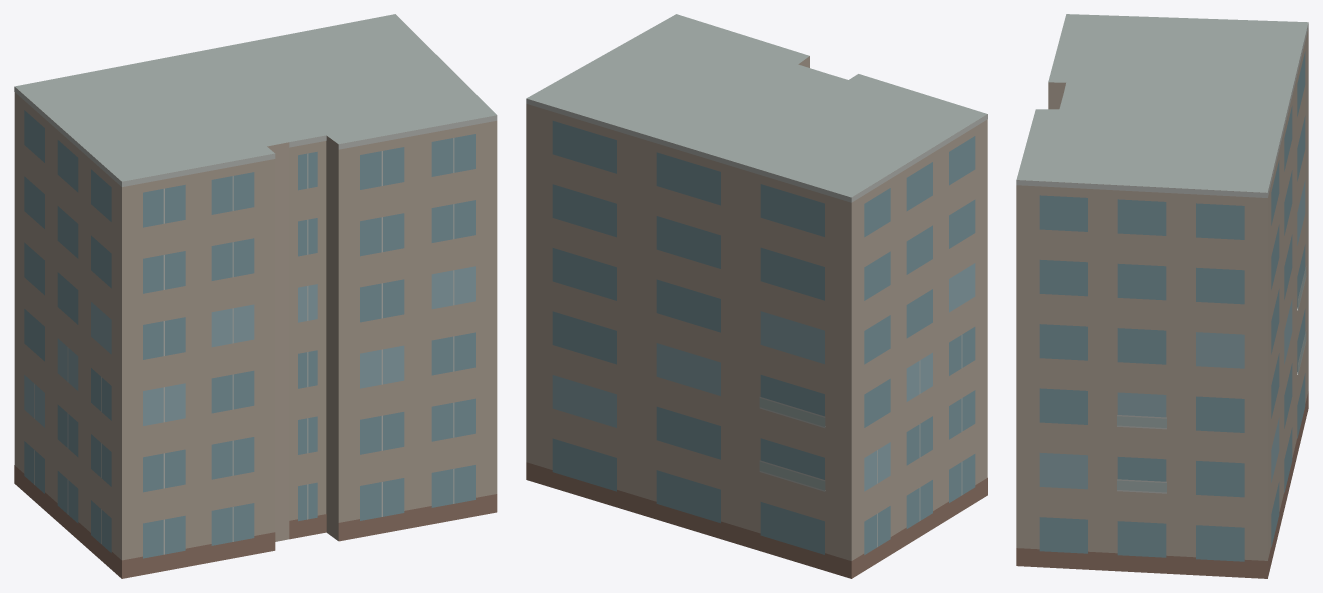
The model's file is survey-upis-32640312.glb.
3 views of the same model, side by side, from view 1: azimuth 30°, elevation 25°; view 2: azimuth 150°, elevation 25°; view 3: azimuth 270°, elevation 25° (orthographic). The views are drawn at different scales.
Visible parts, largest first — view 1: survey-upis-32640312.tmp; view 2: survey-upis-32640312.tmp; view 3: survey-upis-32640312.tmp.
Boxes of the visible parts, box(x1,y1,x2,y2) form: survey-upis-32640312.tmp: box(14, 14, 497, 578); survey-upis-32640312.tmp: box(526, 14, 987, 578); survey-upis-32640312.tmp: box(1016, 14, 1308, 578).
Bounding box in the file's own units: 17.84 × 17.95 × 12.32.
